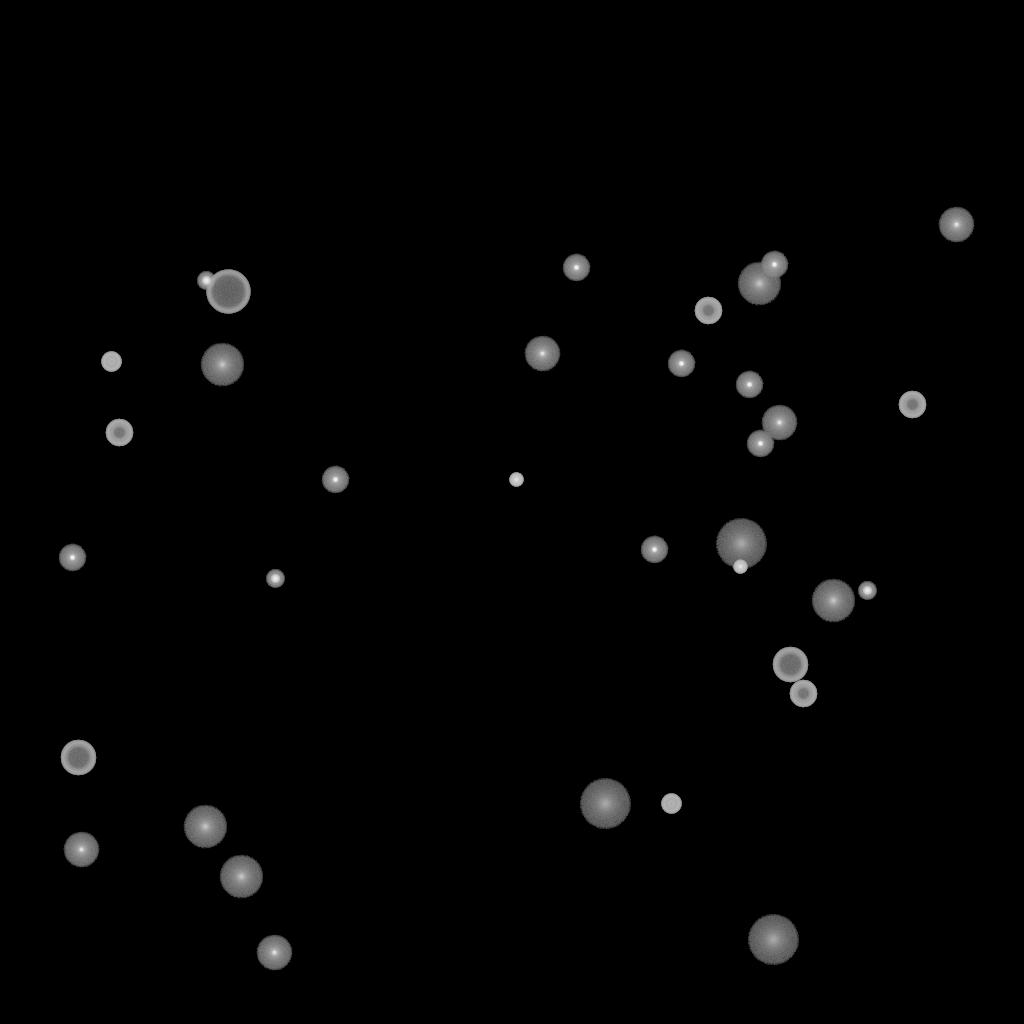depth:-10: (640, 536, 668, 564), (667, 350, 695, 378), (760, 251, 788, 279), (58, 544, 86, 572), (562, 254, 590, 282), (735, 371, 763, 399), (321, 466, 349, 494), (746, 430, 774, 458)
depth:-20: (858, 582, 876, 600), (197, 272, 215, 290), (266, 570, 284, 588)
depth:-30: (509, 473, 523, 487), (733, 560, 747, 574)
depth:-40: (661, 794, 681, 814), (101, 352, 121, 372)
depth:-50: (898, 391, 926, 419), (694, 297, 722, 325), (789, 680, 817, 708), (105, 419, 133, 447)
depth:-60: (60, 740, 96, 776), (772, 647, 808, 683)
depth:-70: (206, 270, 250, 314)
depth:0: (938, 207, 974, 243), (524, 336, 560, 372), (63, 832, 99, 868), (761, 405, 797, 441), (256, 935, 292, 971)
depth:10: (200, 343, 244, 387), (811, 579, 855, 623), (219, 855, 263, 899), (737, 262, 781, 306), (183, 805, 227, 849)
depth:20: (579, 779, 631, 829), (715, 519, 767, 569), (747, 915, 799, 965)
